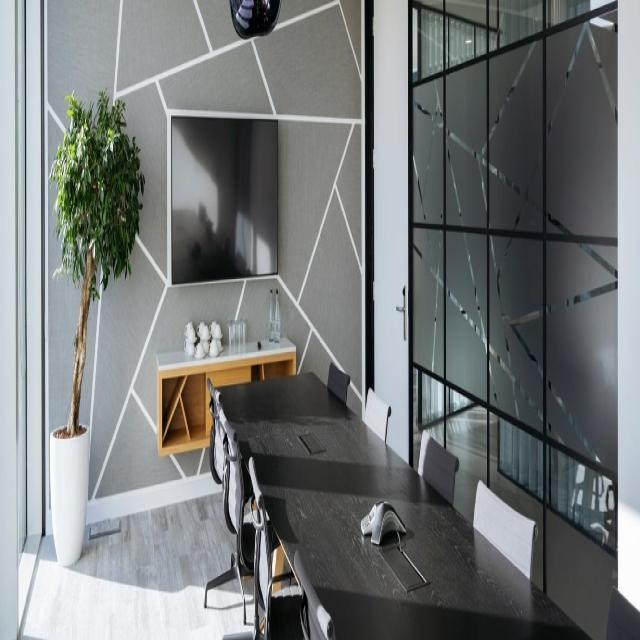chair: (248, 458, 307, 640), (472, 479, 538, 582), (218, 412, 254, 600), (417, 430, 459, 507), (364, 387, 391, 444)
